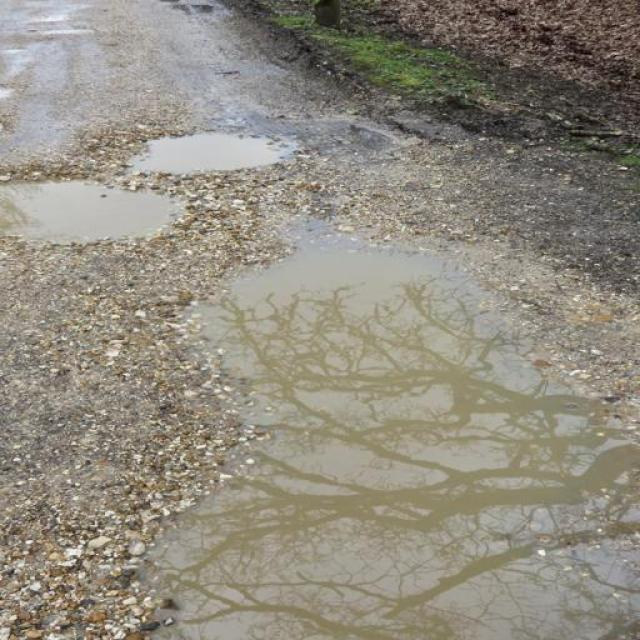puddle: (187, 262, 639, 640), (14, 180, 194, 240), (137, 131, 298, 172)
